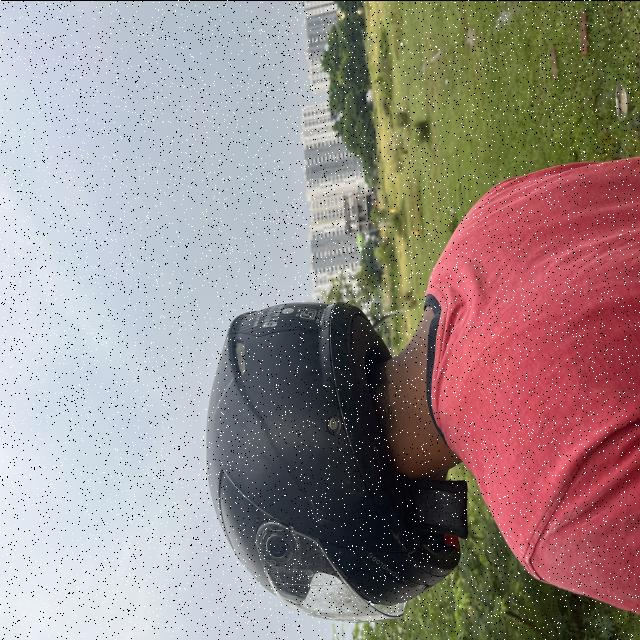Helmet: (208, 302, 468, 620)
